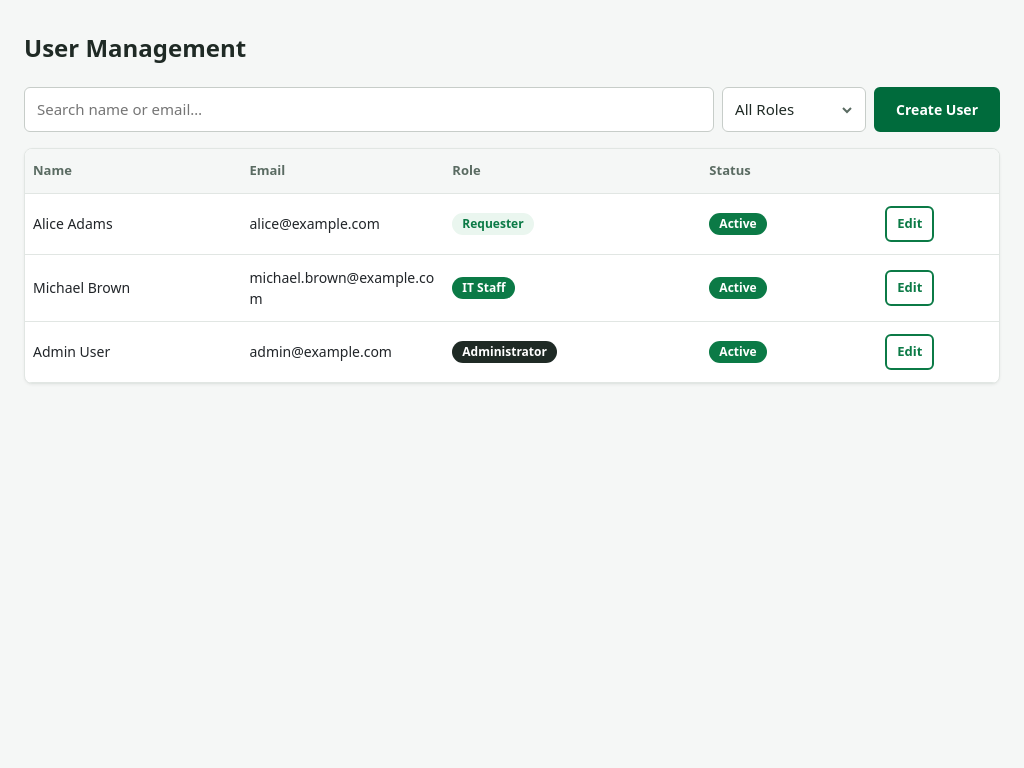
Test: UI-23: Self-deactivation and last-admin conflict messages (AC-63, AC-64) › UI-23: editing your own account disables the Active toggle with an explanation (self-deactivation guard)
Expected: the element with test id "users-table" is shown, [24,148,1000,384]
id 9 (Admin User) is the signed-in admin
Click the button with aria-label "edit admin user".
click(910, 352)  # box [885,334,934,370]
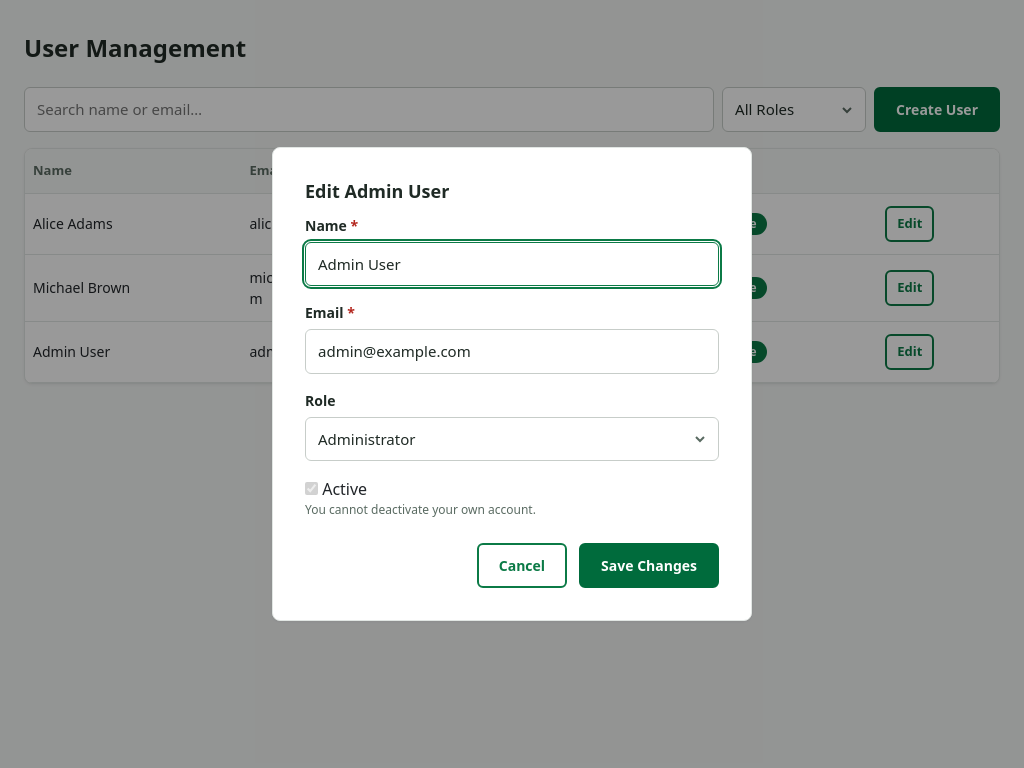
Expected: the checkbox is disabled, [305,482,318,495]
Expected: the text "You cannot deactivate your own account." is shown, [305,501,536,518]
